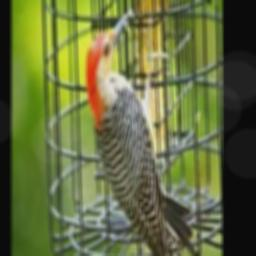Woodpecker: (86, 7, 193, 256)
